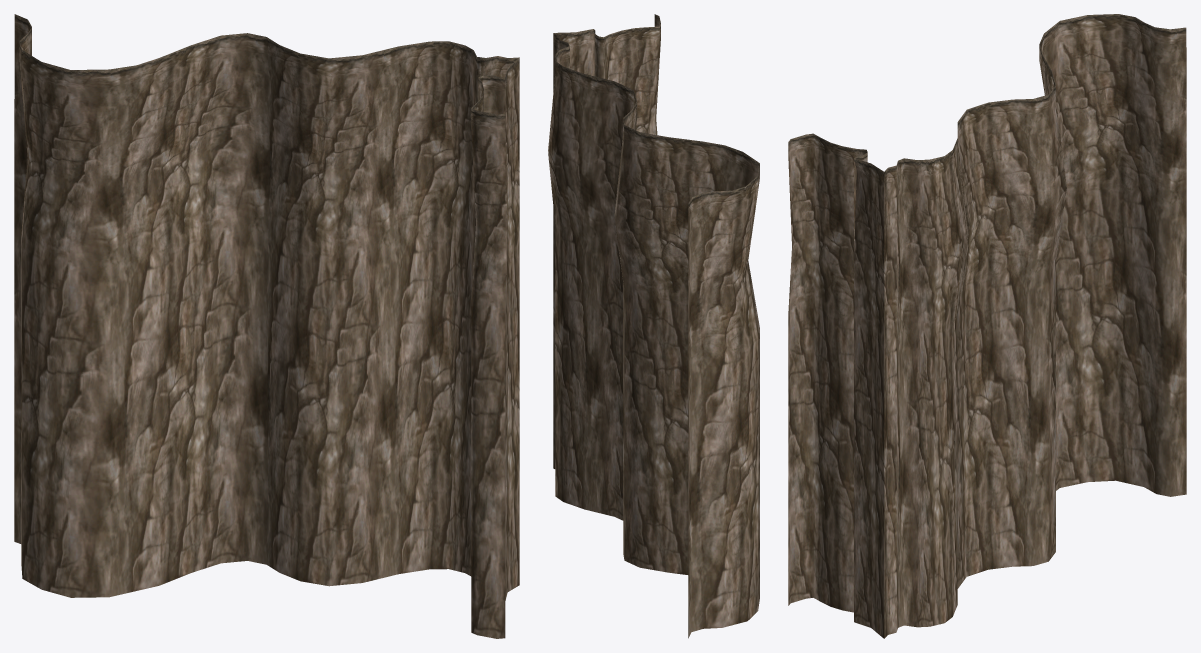
Rendered from OVERHILL_A_01_LINE142.fbx.
3 renders of one model, left to right at view 1: azimuth 30°, elevation 25°; view 2: azimuth 150°, elevation 25°; view 3: azimuth 270°, elevation 25°, orthographic. The views are drawn at different scales.
Visible parts, largest first — view 1: OVERHILL_A_01_LINE142; view 2: OVERHILL_A_01_LINE142; view 3: OVERHILL_A_01_LINE142.
Part boxes in pixels (x1,y1,x2,y2): OVERHILL_A_01_LINE142: (14,14,519,638); OVERHILL_A_01_LINE142: (548,14,759,638); OVERHILL_A_01_LINE142: (788,14,1186,638).
Bounding box in the file's own units: 168596 × 232124 × 179427.
Materials: 2 (2 with a texture image).
